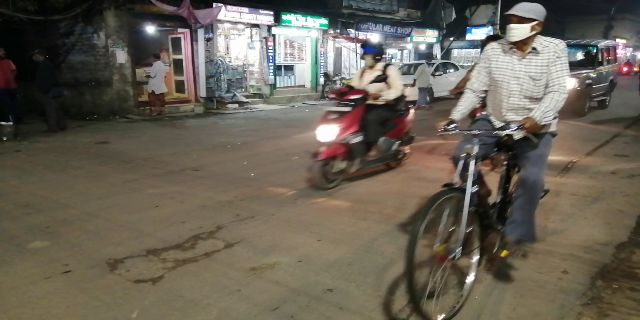Cycle: (409, 6, 566, 320)
Motorbike: (310, 41, 415, 189)
